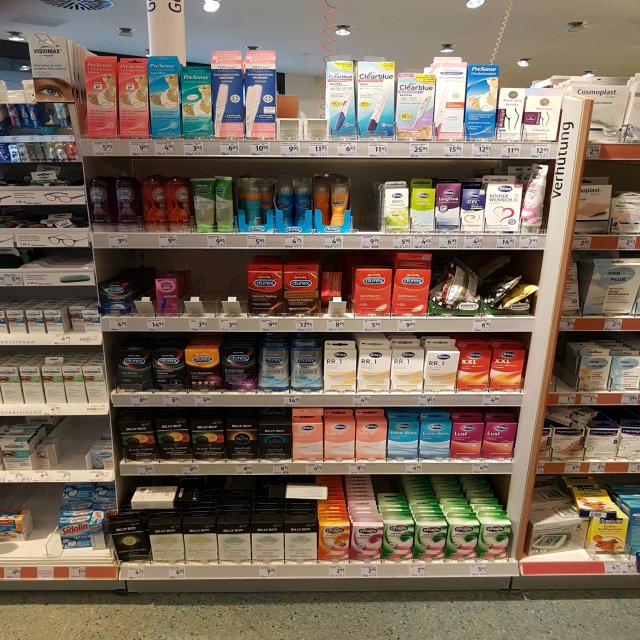unorganised: (483, 260, 533, 315), (434, 259, 480, 313), (533, 514, 591, 553), (314, 176, 349, 232), (239, 179, 274, 229), (279, 178, 312, 231), (136, 482, 197, 507), (544, 404, 600, 431), (524, 172, 548, 233), (320, 269, 351, 314), (145, 180, 190, 209), (88, 522, 111, 553)
